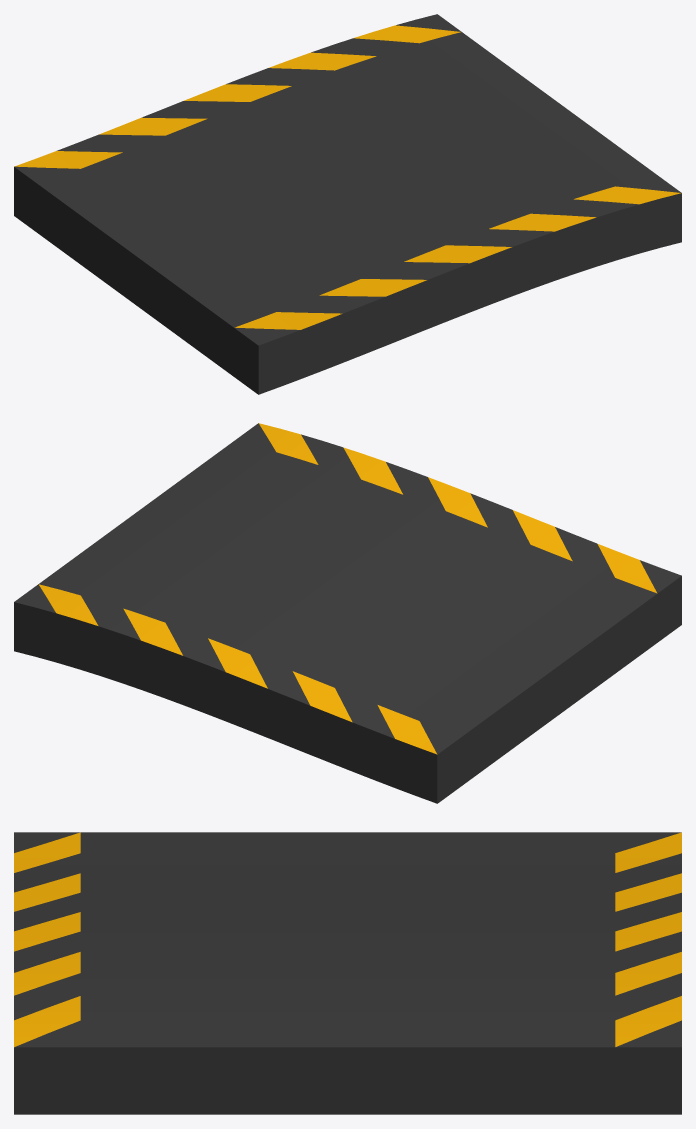
3 renders of one model, top to bottom at view 1: azimuth 30°, elevation 25°; view 2: azimuth 150°, elevation 25°; view 3: azimuth 270°, elevation 25°, orthographic. The views are drawn at different scales.
Parts seen in each view (by area): view 1: e0; view 2: e0; view 3: e0.
Boxes of the visible parts, x1,y1,x2,y2 form: e0: (14,14,681,394); e0: (14,423,681,803); e0: (14,832,681,1114).
Size of the model in its own units: 9 by 2 by 9.
